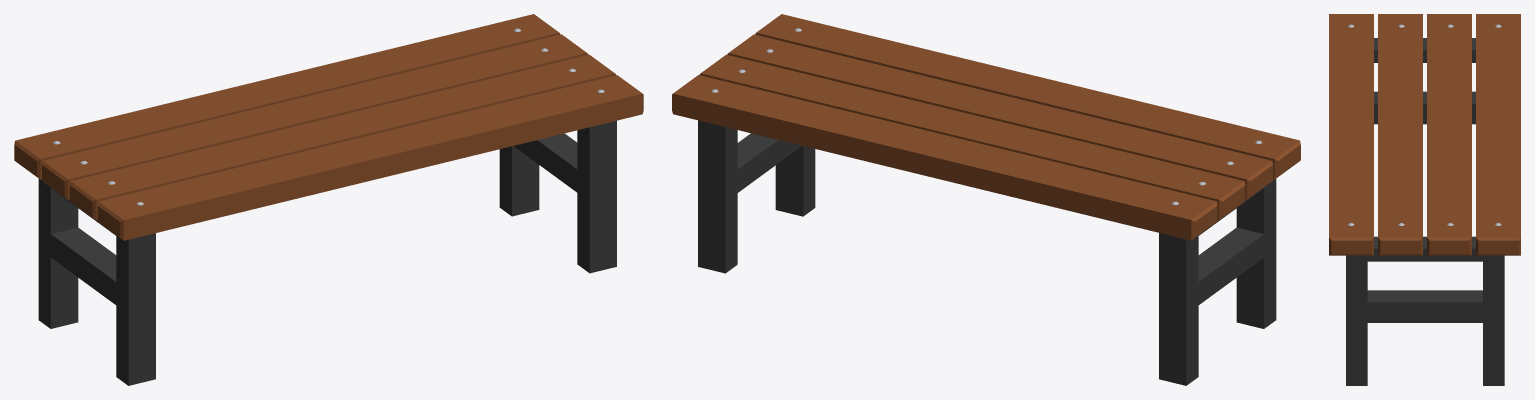
File: Bench_1.fbx
3 views of the same model, side by side, from view 1: azimuth 30°, elevation 25°; view 2: azimuth 150°, elevation 25°; view 3: azimuth 270°, elevation 25° (orthographic). The views are drawn at different scales.
Visible parts, largest first — view 1: Bench_1; view 2: Bench_1; view 3: Bench_1.
Boxes of the visible parts, left/top/right/bottom form: Bench_1: left=14, top=14, right=643, bottom=385; Bench_1: left=672, top=14, right=1300, bottom=385; Bench_1: left=1329, top=14, right=1520, bottom=385.
Bounding box in the file's own units: 169 × 54.7 × 60.71.
